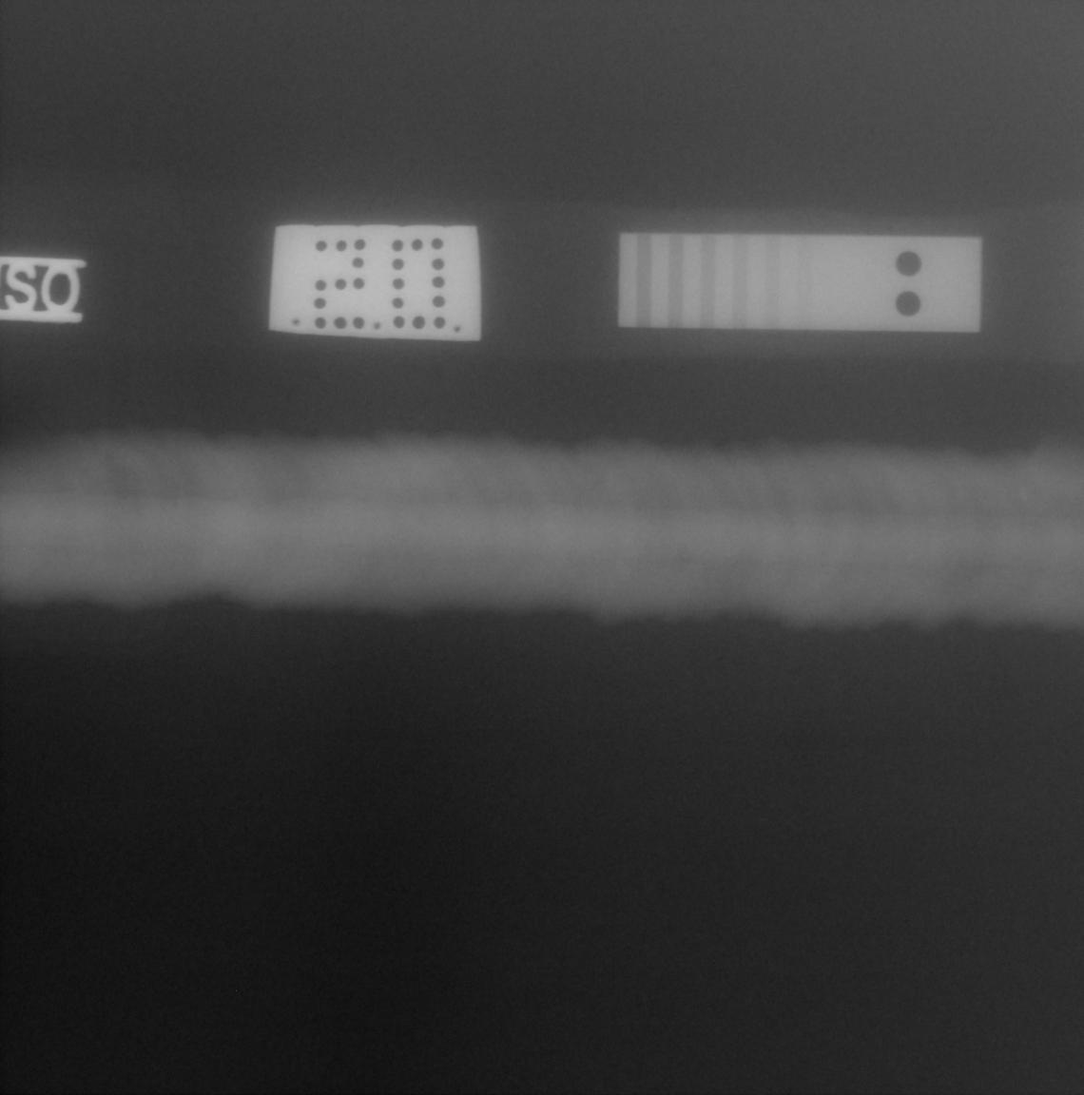Reference Standard 2: (617, 234, 982, 333)
